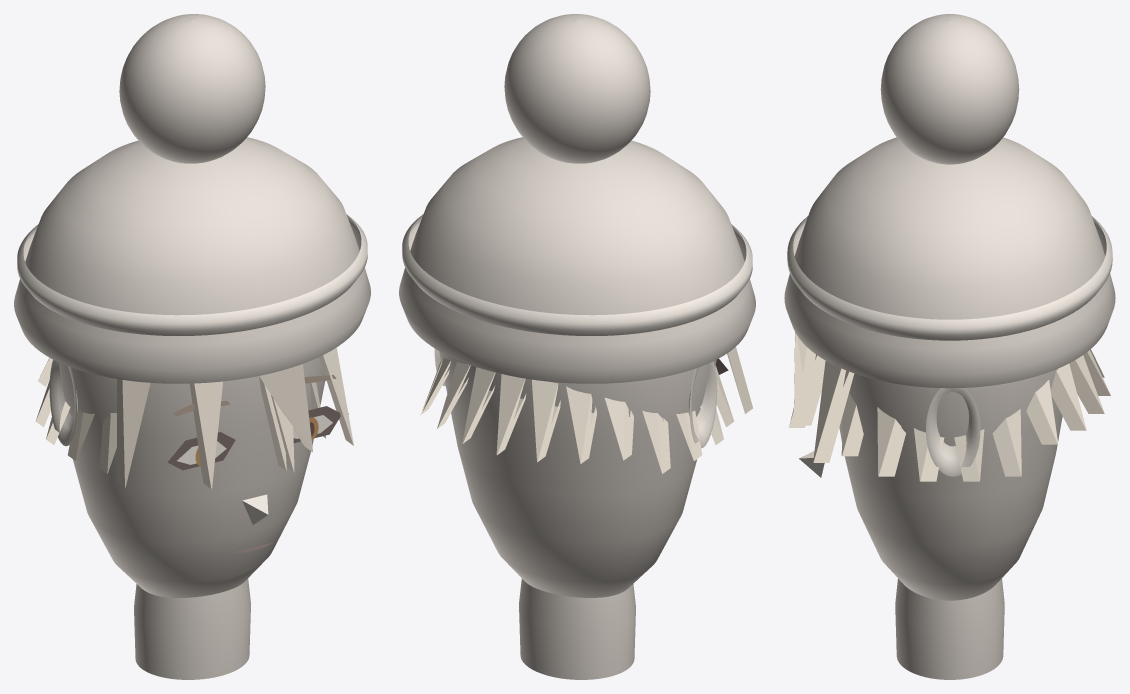
The model's file is pawn-head-assembled-v0.0.11.glb.
The picture shows the model from 3 angles, left to right: view 1: azimuth 30°, elevation 25°; view 2: azimuth 150°, elevation 25°; view 3: azimuth 270°, elevation 25°; orthographic projection.
Parts seen in each view (by area): view 1: Helmet_hollow_open_shell, Face_shape_whole_cranium_and_jaw, Helmet_Pawn_crown_sphere, Face_neck_integral_broad, Helmet_arch_band, Hair_carved_lock_19, Hair_carved_lock_21, Hair_signature_front_bang, Ear_simple_L, Hair_carved_lock_02, Hair_carved_lock_01, Hair_carved_lock_18 (+4 smaller); view 2: Helmet_hollow_open_shell, Face_shape_whole_cranium_and_jaw, Helmet_Pawn_crown_sphere, Face_neck_integral_broad, Helmet_arch_band, Hair_carved_lock_12, Hair_carved_lock_11, Hair_carved_lock_13, Ear_simple_L, Hair_carved_lock_10, Hair_carved_lock_14, Hair_carved_lock_15 (+3 smaller); view 3: Helmet_hollow_open_shell, Face_shape_whole_cranium_and_jaw, Helmet_Pawn_crown_sphere, Face_neck_integral_broad, Helmet_arch_band, Ear_simple_R, Hair_carved_lock_02, Hair_carved_lock_04, Hair_carved_lock_07, Hair_carved_lock_09, Hair_signature_front_bang, Hair_carved_lock_08 (+6 smaller).
Boxes of the visible parts, left/top/right/bottom form: Helmet_hollow_open_shell: left=14, top=137, right=370, bottom=383; Face_shape_whole_cranium_and_jaw: left=59, top=357, right=325, bottom=597; Helmet_Pawn_crown_sphere: left=119, top=14, right=265, bottom=163; Face_neck_integral_broad: left=134, top=578, right=250, bottom=679; Helmet_arch_band: left=17, top=214, right=367, bottom=335; Hair_carved_lock_19: left=117, top=379, right=150, bottom=487; Hair_carved_lock_21: left=189, top=381, right=222, bottom=489; Hair_signature_front_bang: left=259, top=364, right=312, bottom=452; Ear_simple_L: left=49, top=359, right=77, bottom=446; Hair_carved_lock_02: left=319, top=347, right=353, bottom=445; Hair_carved_lock_01: left=259, top=376, right=286, bottom=470; Hair_carved_lock_18: left=99, top=413, right=116, bottom=473; Helmet_hollow_open_shell: left=399, top=137, right=755, bottom=383; Face_shape_whole_cranium_and_jaw: left=439, top=351, right=716, bottom=597; Helmet_Pawn_crown_sphere: left=504, top=14, right=650, bottom=163; Face_neck_integral_broad: left=519, top=578, right=635, bottom=679; Helmet_arch_band: left=402, top=214, right=752, bottom=335; Hair_carved_lock_12: left=532, top=379, right=560, bottom=462; Hair_carved_lock_11: left=496, top=374, right=526, bottom=454; Hair_carved_lock_13: left=566, top=386, right=596, bottom=463; Ear_simple_L: left=688, top=361, right=717, bottom=448; Hair_carved_lock_10: left=462, top=367, right=495, bottom=443; Hair_carved_lock_14: left=604, top=397, right=633, bottom=460; Hair_carved_lock_15: left=642, top=410, right=670, bottom=473; Helmet_hollow_open_shell: left=784, top=137, right=1115, bottom=388; Face_shape_whole_cranium_and_jaw: left=839, top=368, right=1062, bottom=600; Helmet_Pawn_crown_sphere: left=880, top=14, right=1019, bottom=164; Face_neck_integral_broad: left=895, top=578, right=1004, bottom=679; Helmet_arch_band: left=787, top=216, right=1112, bottom=340; Ear_simple_R: left=926, top=388, right=980, bottom=476; Hair_carved_lock_02: left=813, top=361, right=854, bottom=462; Hair_carved_lock_04: left=877, top=407, right=905, bottom=476; Hair_carved_lock_07: left=992, top=409, right=1021, bottom=476; Hair_carved_lock_09: left=1050, top=363, right=1086, bottom=430; Hair_signature_front_bang: left=794, top=332, right=810, bottom=424; Hair_carved_lock_08: left=1026, top=380, right=1058, bottom=444.
Bounding box in the file's own units: 0.226 × 0.435 × 0.2057.
